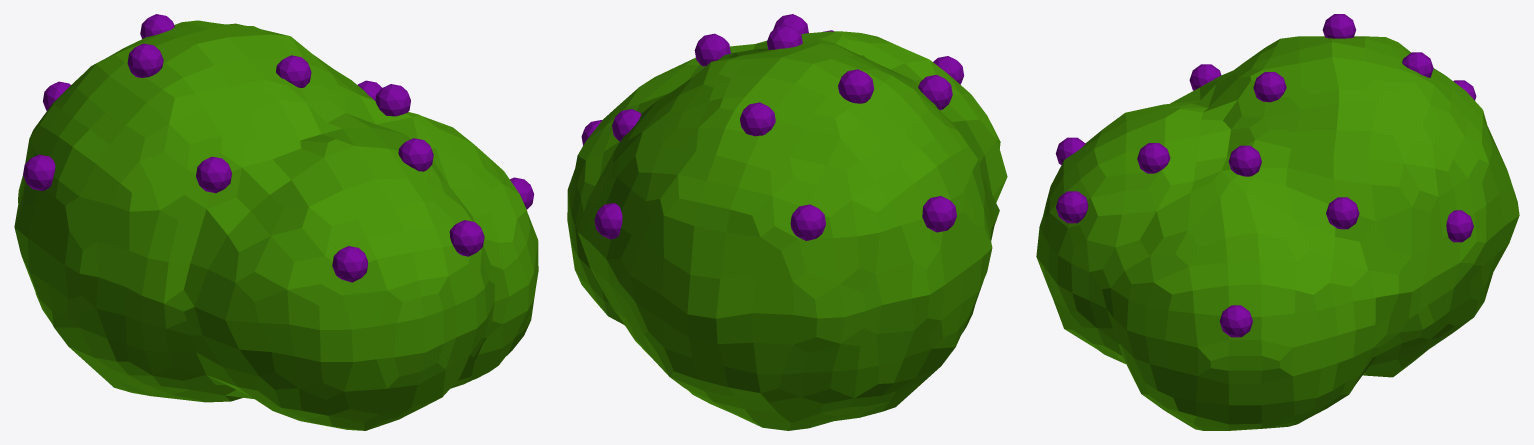
Rendered from bewsh.fbx.
The picture shows the model from 3 angles, left to right: view 1: azimuth 30°, elevation 25°; view 2: azimuth 150°, elevation 25°; view 3: azimuth 270°, elevation 25°; orthographic projection. The views are drawn at different scales.
Parts seen in each view (by area): view 1: Icosphere, Icosphere.001; view 2: Icosphere, Icosphere.001; view 3: Icosphere, Icosphere.001.
Part boxes in pixels (x1=…): Icosphere: x1=14, y1=20, x2=538, y2=430; Icosphere.001: x1=23, y1=14, x2=534, y2=282; Icosphere: x1=567, y1=31, x2=1007, y2=430; Icosphere.001: x1=581, y1=14, x2=964, y2=240; Icosphere: x1=1036, y1=36, x2=1519, y2=430; Icosphere.001: x1=1055, y1=14, x2=1476, y2=337.
Bounding box in the file's own units: 330 × 257 × 349.
